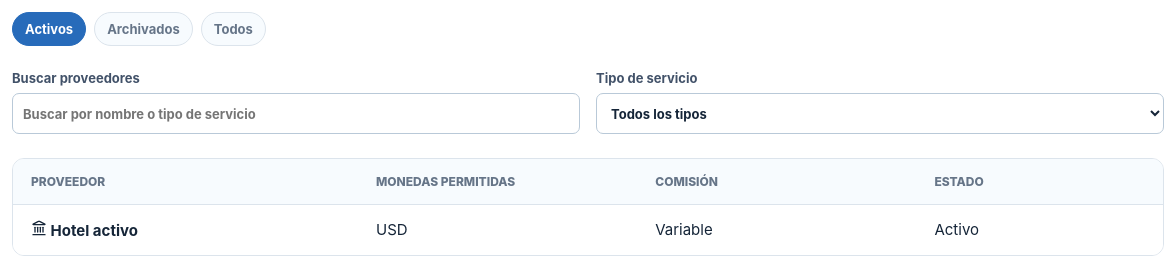
Test: ProviderList › keeps archived providers accessible through the archive filter
Expected: the text "Hotel activo" is shown, [31,220,138,240]
Expected: the text "Hotel archivado" is not shown
Click the button "Archivados". click: {"x": 144, "y": 29}
box: [94,12,193,46]
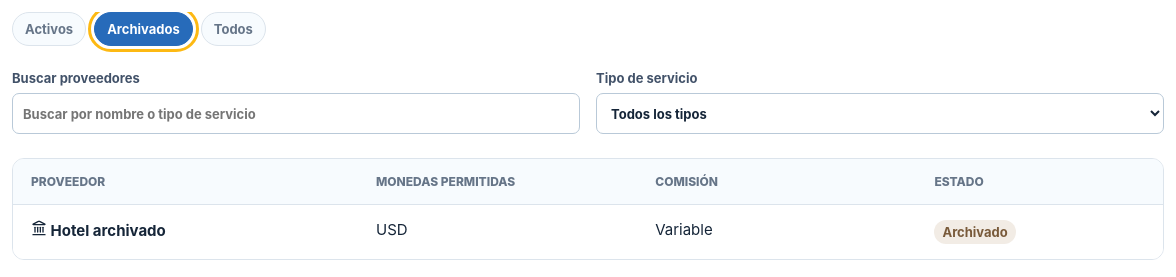
Expected: the text "Hotel archivado" is shown, [31,220,166,240]
Expected: the text "Archivado" is shown, [934,220,1016,244]
